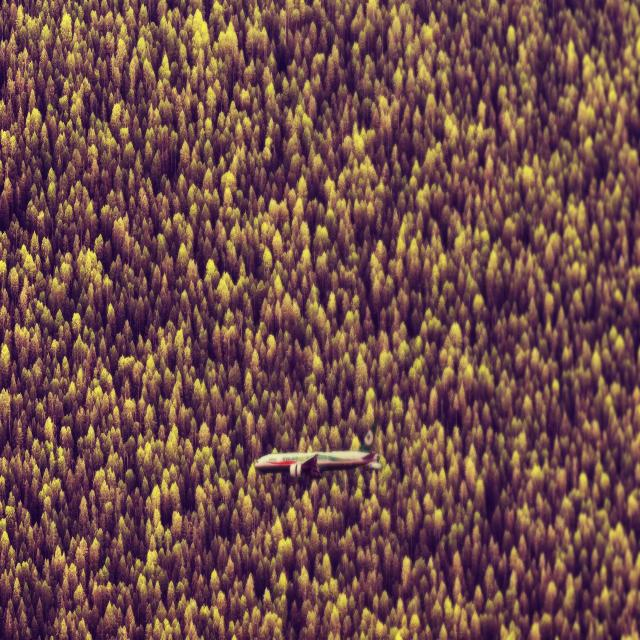airplane: (253, 448, 381, 479)
